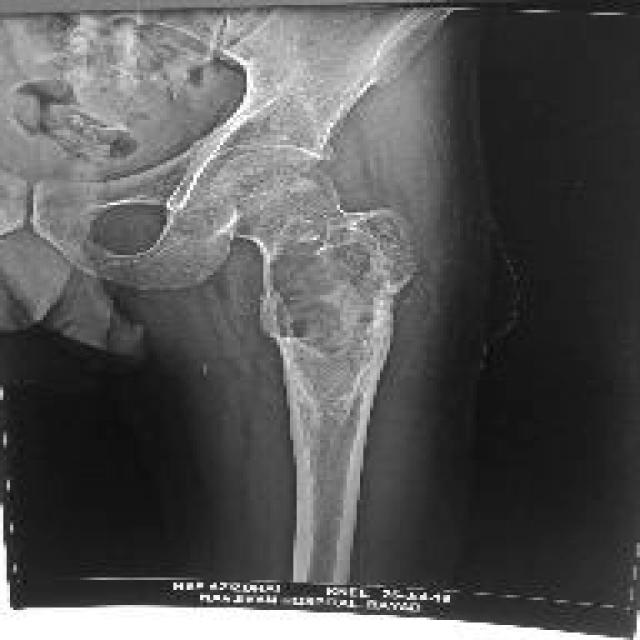bone-cancer: (189, 163, 416, 468)
